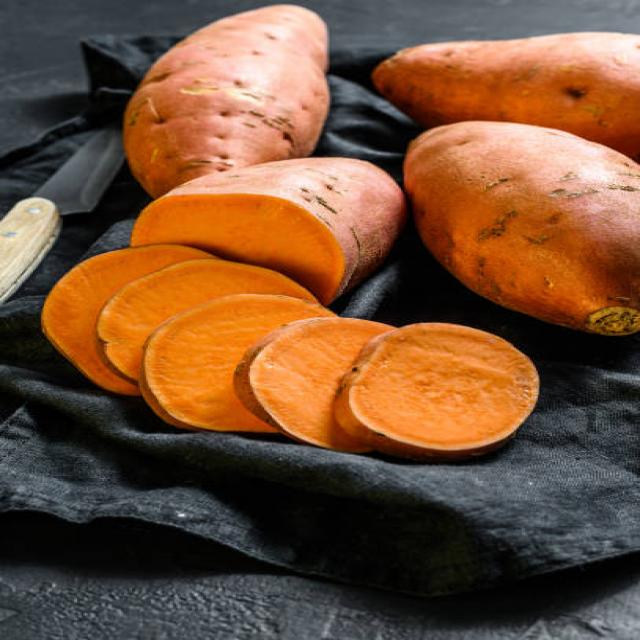Sweet Potato: (399, 120, 640, 332), (117, 0, 336, 158), (336, 316, 538, 462), (133, 152, 405, 260), (380, 26, 640, 126)
